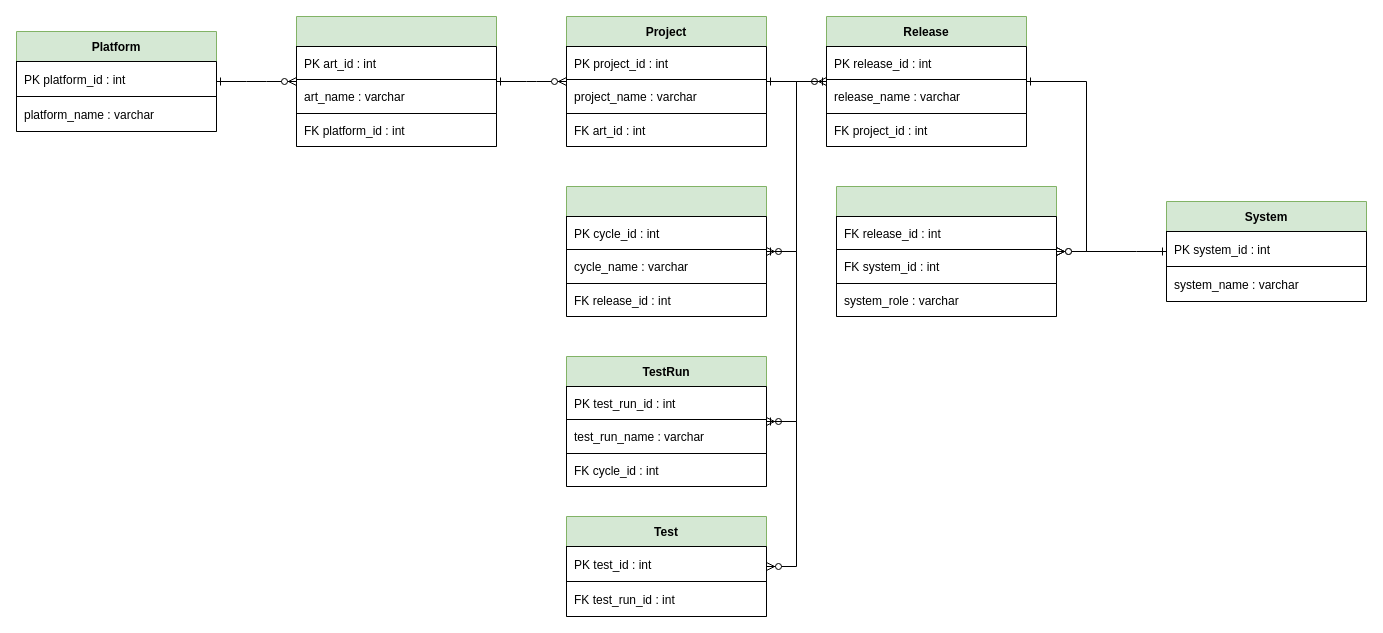
Some shapes in this 1383 by 633 pixel diagram are drawn without their labels. Each missing label, with the box of its shape:
AgileReleaseTrain: (296, 16, 496, 146)
Release_System_Map: (836, 186, 1056, 316)
TestCycle: (566, 186, 766, 316)
